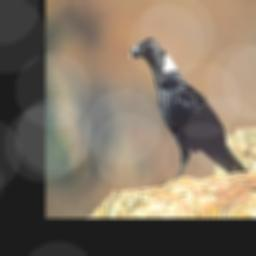Crow: (129, 36, 250, 187)
